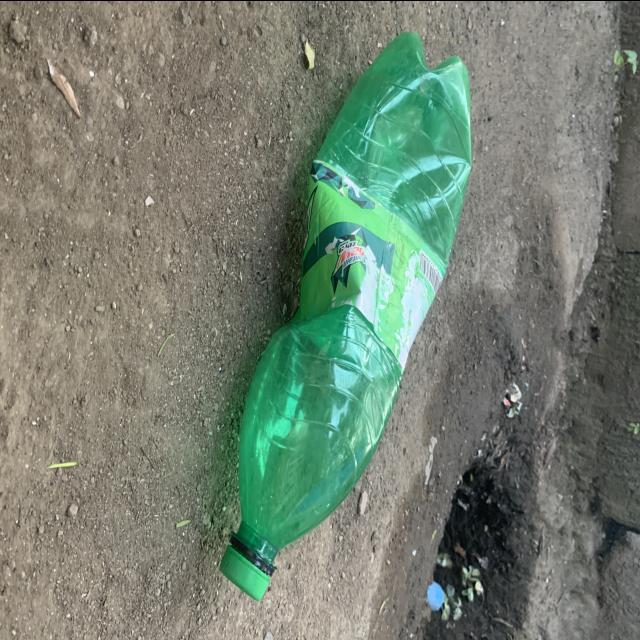Bottle: (220, 31, 471, 600)
